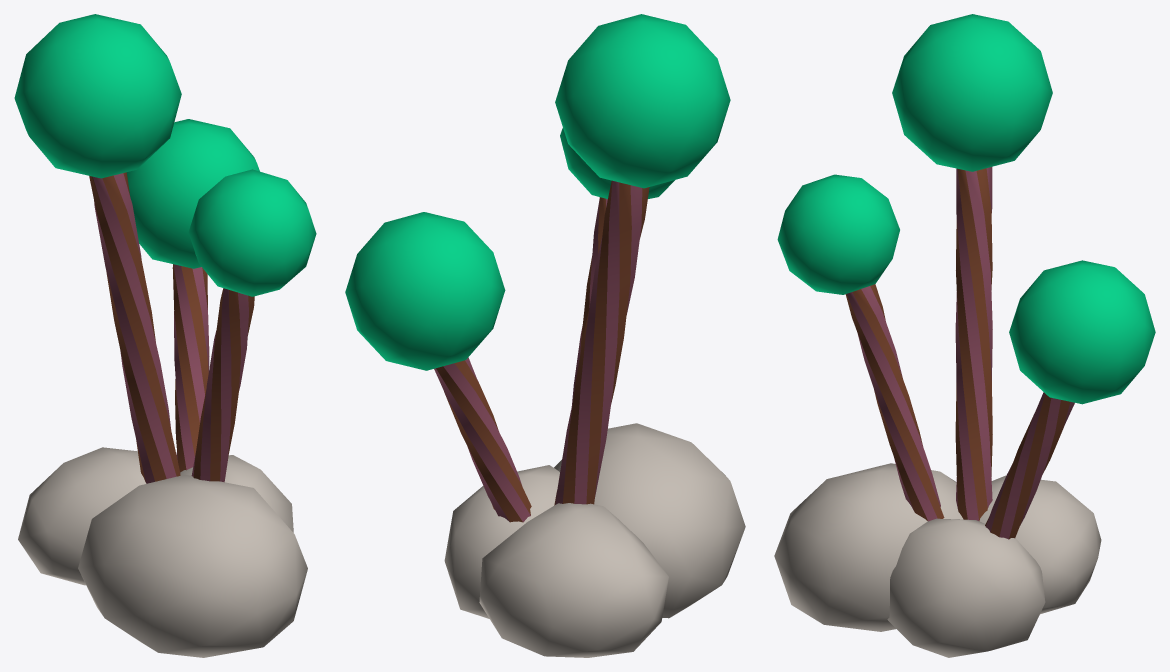
File: weirdPirouettePlantStronger.fbx
The picture shows the model from 3 angles, left to right: view 1: azimuth 30°, elevation 25°; view 2: azimuth 150°, elevation 25°; view 3: azimuth 270°, elevation 25°; orthographic projection. The views are drawn at different scales.
Visible parts, largest first — view 1: polySurface16; view 2: polySurface16; view 3: polySurface16.
Boxes of the visible parts, x1,y1,x2,y2 form: polySurface16: (14, 14, 316, 657); polySurface16: (345, 14, 745, 657); polySurface16: (774, 14, 1155, 657).
Size of the model in its own units: 30.16 by 60.23 by 36.78.
